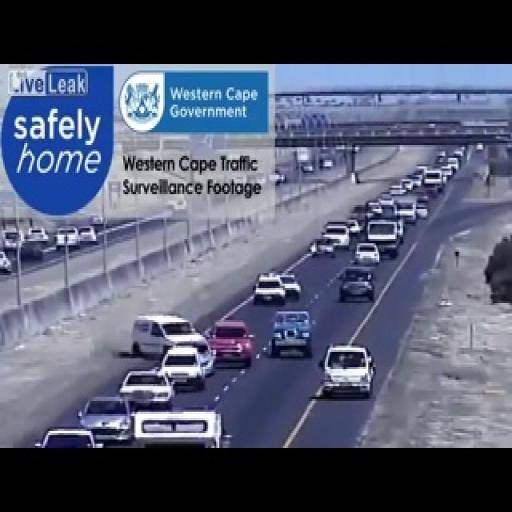Car: (132, 408, 226, 448), (131, 317, 209, 362), (322, 345, 374, 398), (78, 396, 133, 445), (205, 320, 254, 367), (157, 350, 207, 390), (119, 370, 172, 407), (270, 311, 312, 357), (366, 219, 401, 259), (39, 428, 97, 448), (339, 276, 374, 303), (254, 278, 287, 306), (19, 234, 47, 262), (275, 274, 302, 300), (324, 224, 350, 249), (354, 242, 381, 266), (354, 344, 376, 372), (54, 227, 80, 250), (396, 198, 418, 224), (344, 268, 374, 286), (341, 213, 361, 238), (312, 237, 336, 257), (377, 197, 397, 217), (360, 216, 378, 238), (26, 226, 49, 243), (423, 169, 443, 188), (2, 230, 21, 249), (78, 227, 98, 245), (354, 205, 374, 223), (410, 170, 426, 188), (0, 250, 12, 274), (369, 200, 384, 218), (388, 183, 406, 198), (425, 184, 441, 200), (400, 178, 416, 192), (416, 203, 428, 221), (414, 166, 429, 180), (273, 170, 287, 184), (319, 156, 334, 169), (443, 164, 456, 179), (439, 168, 451, 184), (449, 157, 461, 172), (90, 214, 104, 226), (435, 152, 447, 166), (453, 148, 465, 162), (319, 147, 331, 158), (302, 164, 313, 174), (335, 144, 347, 152), (476, 142, 483, 152), (353, 145, 360, 153)
Major Accident: (128, 316, 218, 389)
